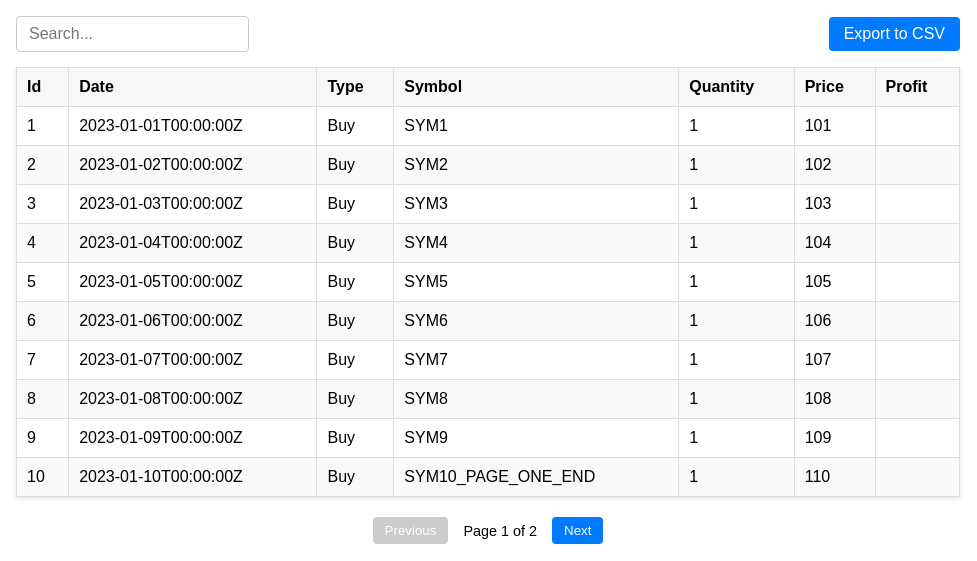
Scenario: TradeHistoryTable › paginates data
Expected: the text "SYM1" is shown, [394,106,679,146]
Expected: the text "SYM10_PAGE_ONE_END" is shown, [394,458,679,496]
Click the button "Next": point(578, 530) [552,517,603,544]
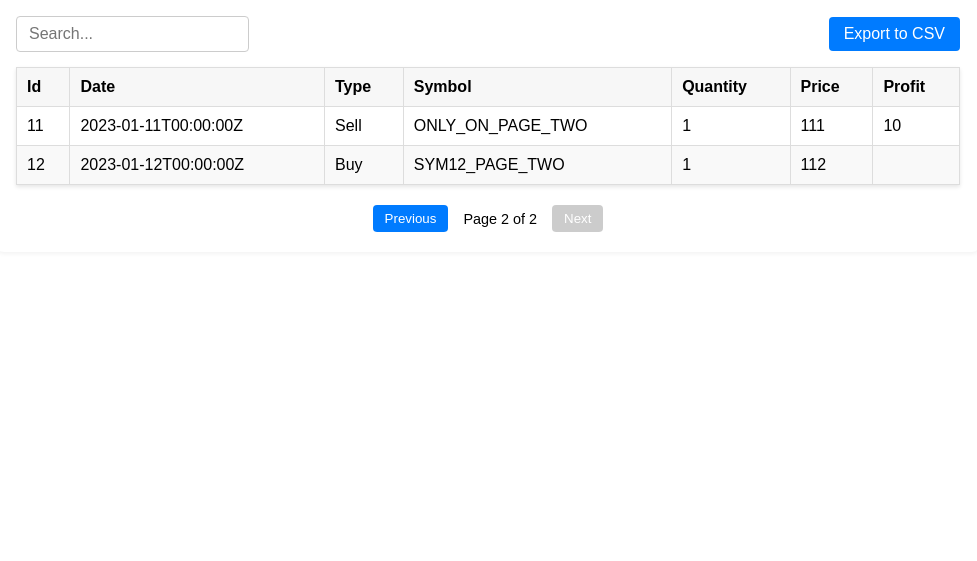
Expected: the text "ONLY_ON_PAGE_TWO" is shown, [403,106,672,146]
Expected: the text "SYM12_PAGE_TWO" is shown, [403,146,672,184]
Expected: the text "SYM10_PAGE_ONE_END" is gone
Click the button "Previous": point(410, 218) [372,205,448,232]
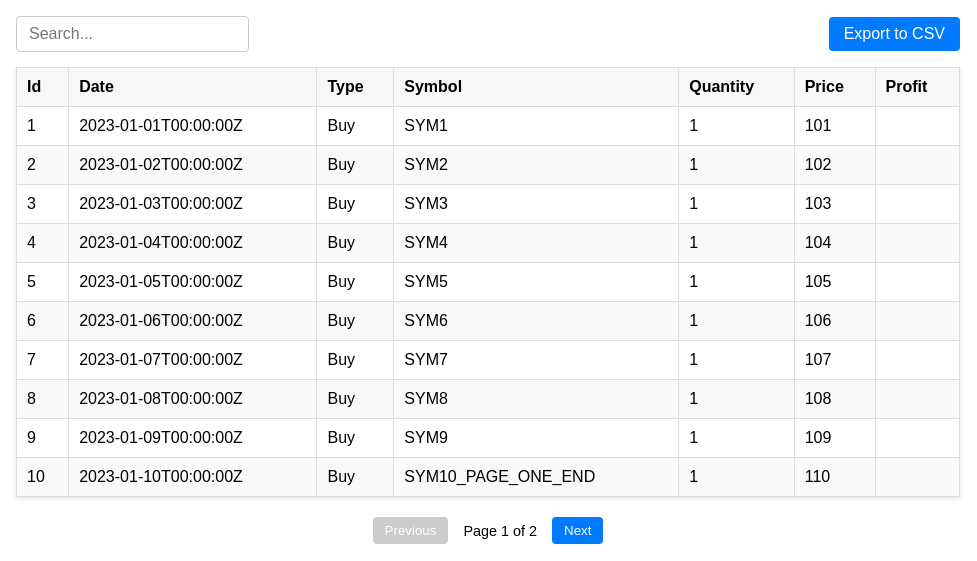
Expected: the text "SYM1" is shown, [394,106,679,146]
Expected: the text "ONLY_ON_PAGE_TWO" is gone
Expected: the text "Page 1 of 2" is shown, [463,522,537,538]
